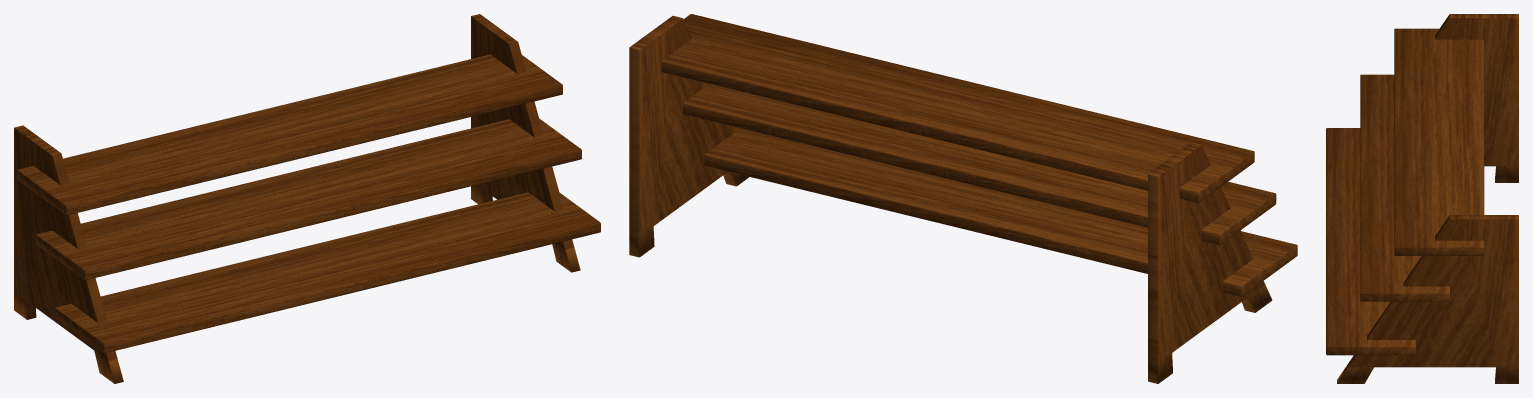
Rendered from tribun.glb.
The picture shows the model from 3 angles, left to right: view 1: azimuth 30°, elevation 25°; view 2: azimuth 150°, elevation 25°; view 3: azimuth 270°, elevation 25°; orthographic projection. The views are drawn at different scales.
Visible parts, largest first — view 1: Cube.001; view 2: Cube.001; view 3: Cube.001.
Part boxes in pixels (box(x1,y1,x2,y2)): Cube.001: box(14, 14, 600, 383); Cube.001: box(629, 14, 1297, 383); Cube.001: box(1326, 14, 1518, 383).
Size of the model in its own units: 11.27 by 3.96 by 4.2.
Materials: 1 (1 with a texture image).
